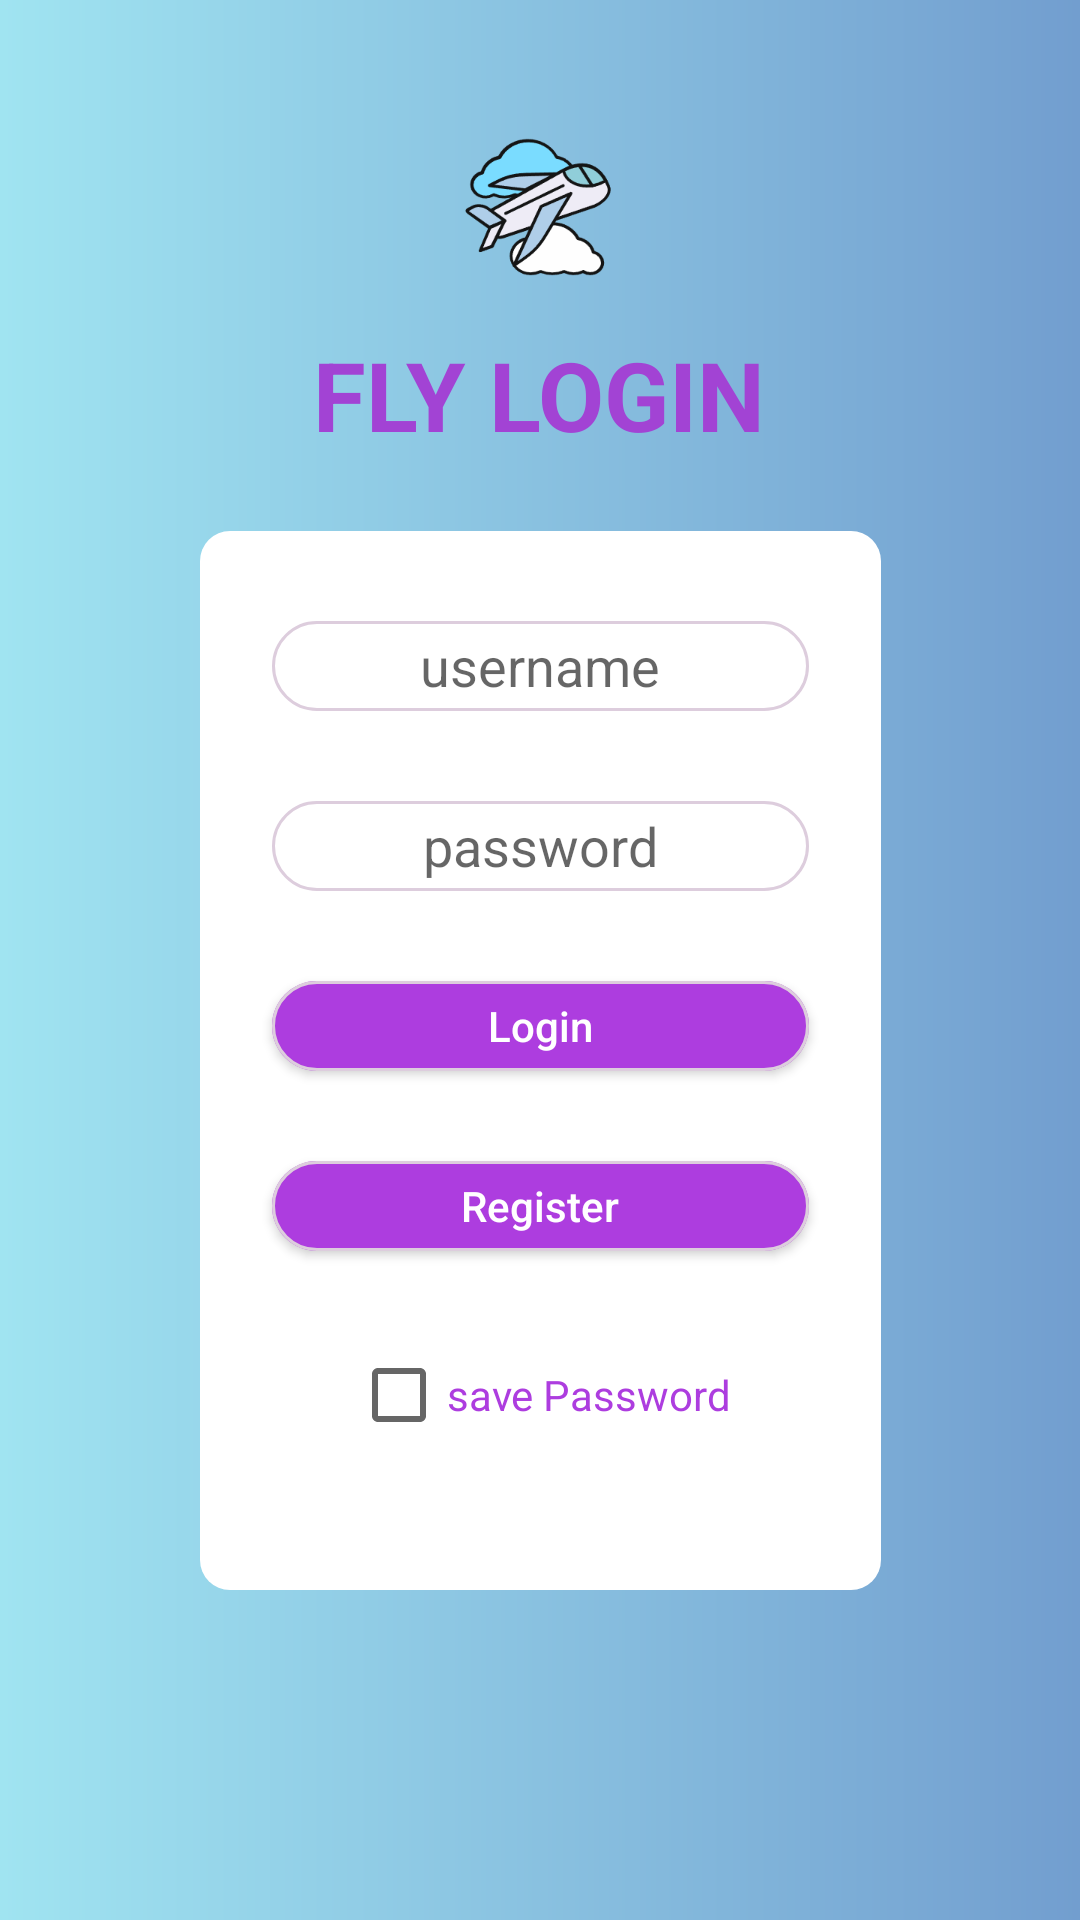

Where icons sit on this 1080 × 1920 app screen, as bbox=(x1, y1, x2, y2):
feiji: bbox=(465, 139, 611, 276)
